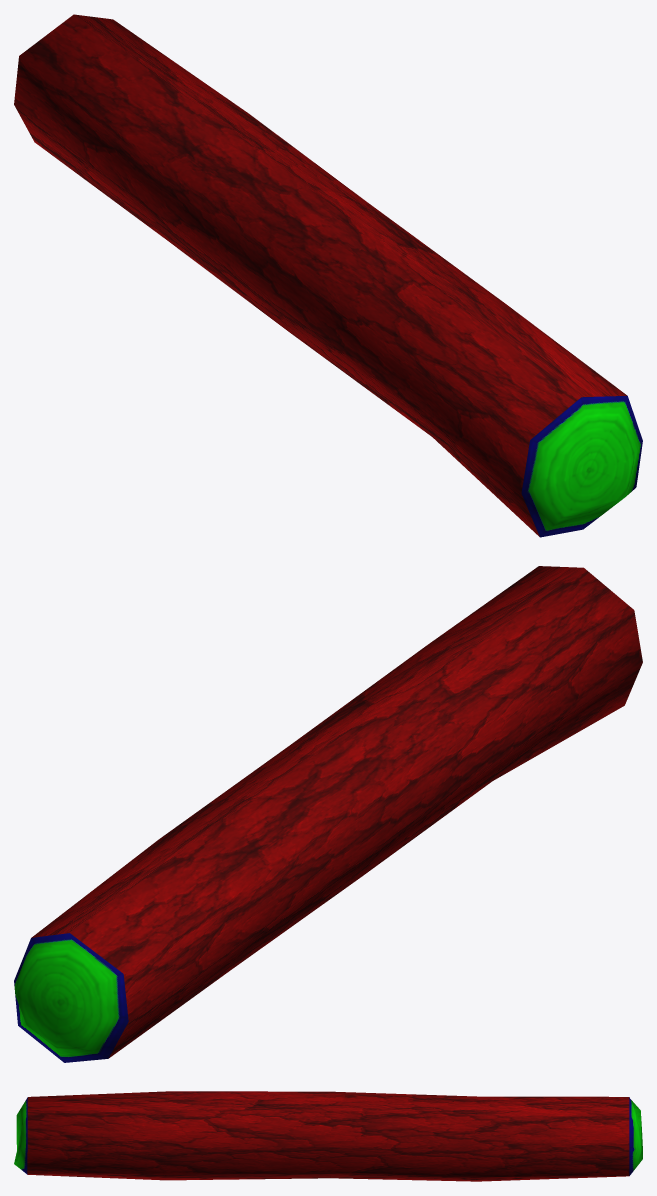
Rendered from Log02.fbx.
3 renders of one model, top to bottom at view 1: azimuth 30°, elevation 25°; view 2: azimuth 150°, elevation 25°; view 3: azimuth 270°, elevation 25°, orthographic. The views are drawn at different scales.
Parts seen in each view (by area): view 1: Log02_LOD0; view 2: Log02_LOD0; view 3: Log02_LOD0.
Part boxes in pixels (left/top/right/bottom): Log02_LOD0: left=14, top=14, right=642, bottom=537; Log02_LOD0: left=14, top=566, right=642, bottom=1062; Log02_LOD0: left=14, top=1091, right=642, bottom=1181.
Size of what is drawn, in the model's own units: 0.2789 by 0.302 by 2.04.
